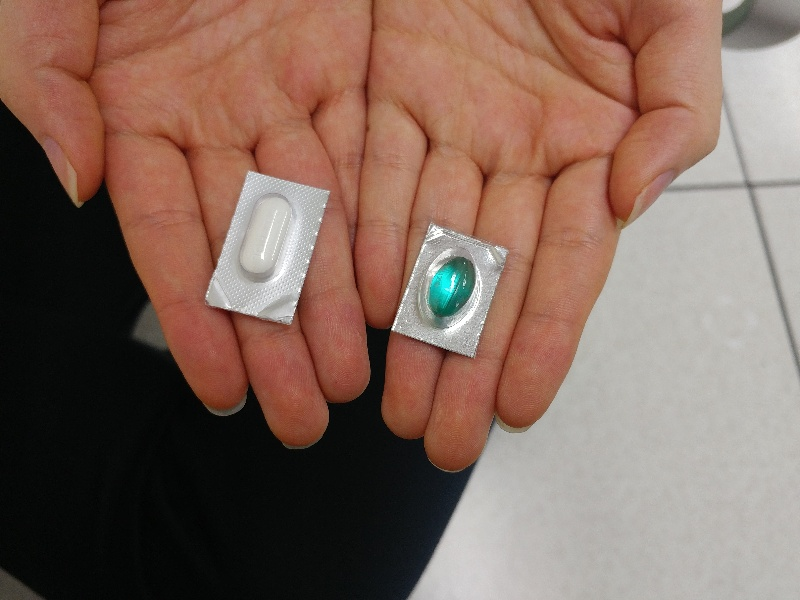pill_ezn: (390, 224, 509, 361)
pill_tylenol: (205, 171, 331, 327)
